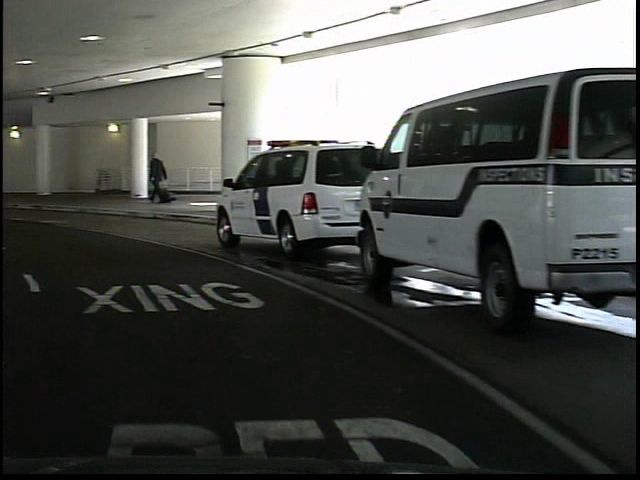person: (141, 148, 166, 207)
